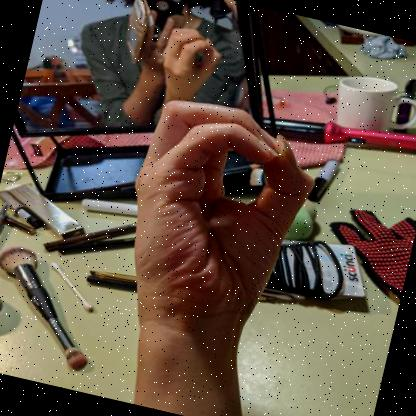O: (134, 100, 315, 352)
